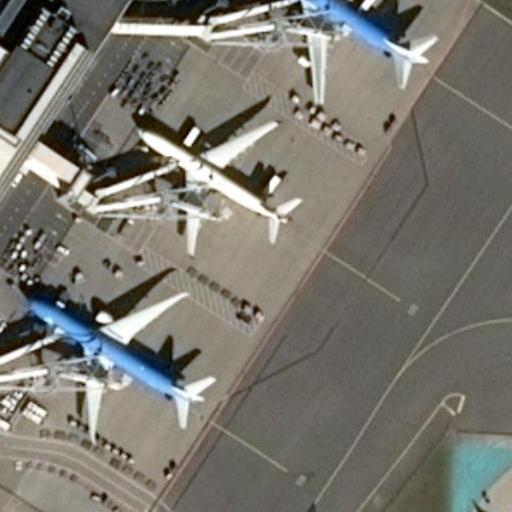Aircraft: (19, 281, 221, 444), (128, 103, 306, 252), (242, 0, 442, 106), (478, 464, 512, 512)
